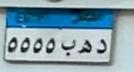5: (45, 36, 56, 56), (32, 36, 43, 56), (7, 35, 18, 55), (19, 36, 31, 54)
baa: (60, 38, 76, 59)
daal: (96, 34, 108, 57)
haa: (77, 37, 92, 57)
